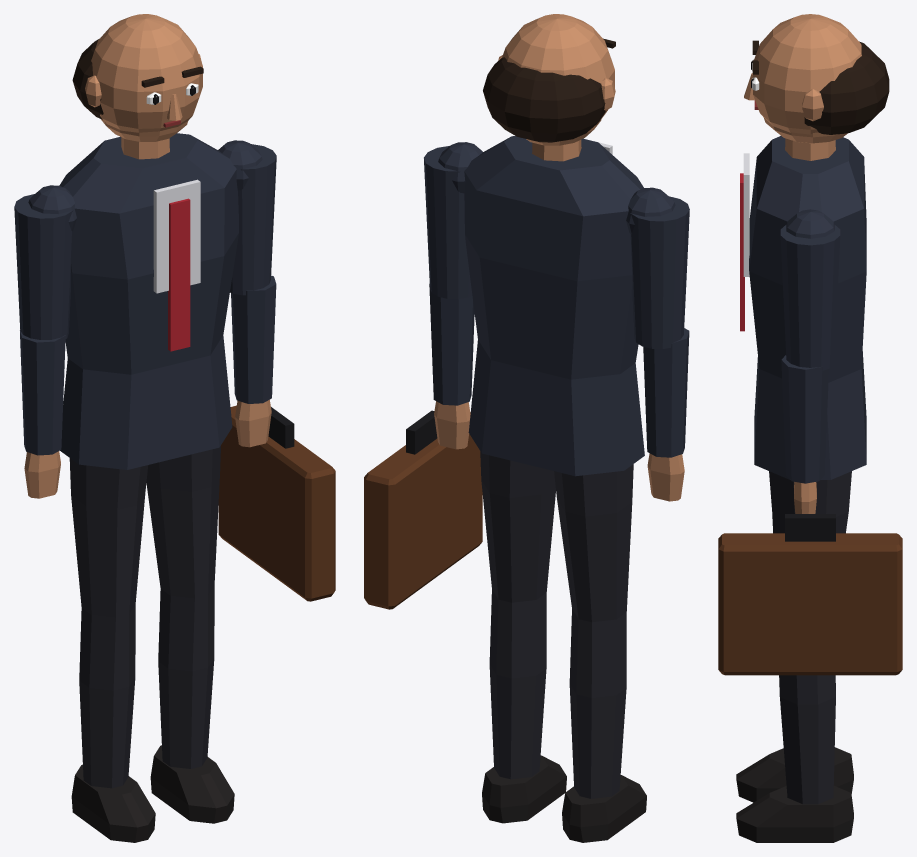
The model's file is customer_business.obj.
The picture shows the model from 3 angles, left to right: view 1: azimuth 30°, elevation 25°; view 2: azimuth 150°, elevation 25°; view 3: azimuth 270°, elevation 25°; orthographic projection.
Parts seen in each view (by area): view 1: customer_business; view 2: customer_business; view 3: customer_business.
Part boxes in pixels (bbox=[...]): customer_business: bbox=[14, 14, 335, 842]; customer_business: bbox=[364, 14, 689, 842]; customer_business: bbox=[718, 14, 902, 842].
Size of the model in its own units: 0.625 by 1.71 by 0.36.
